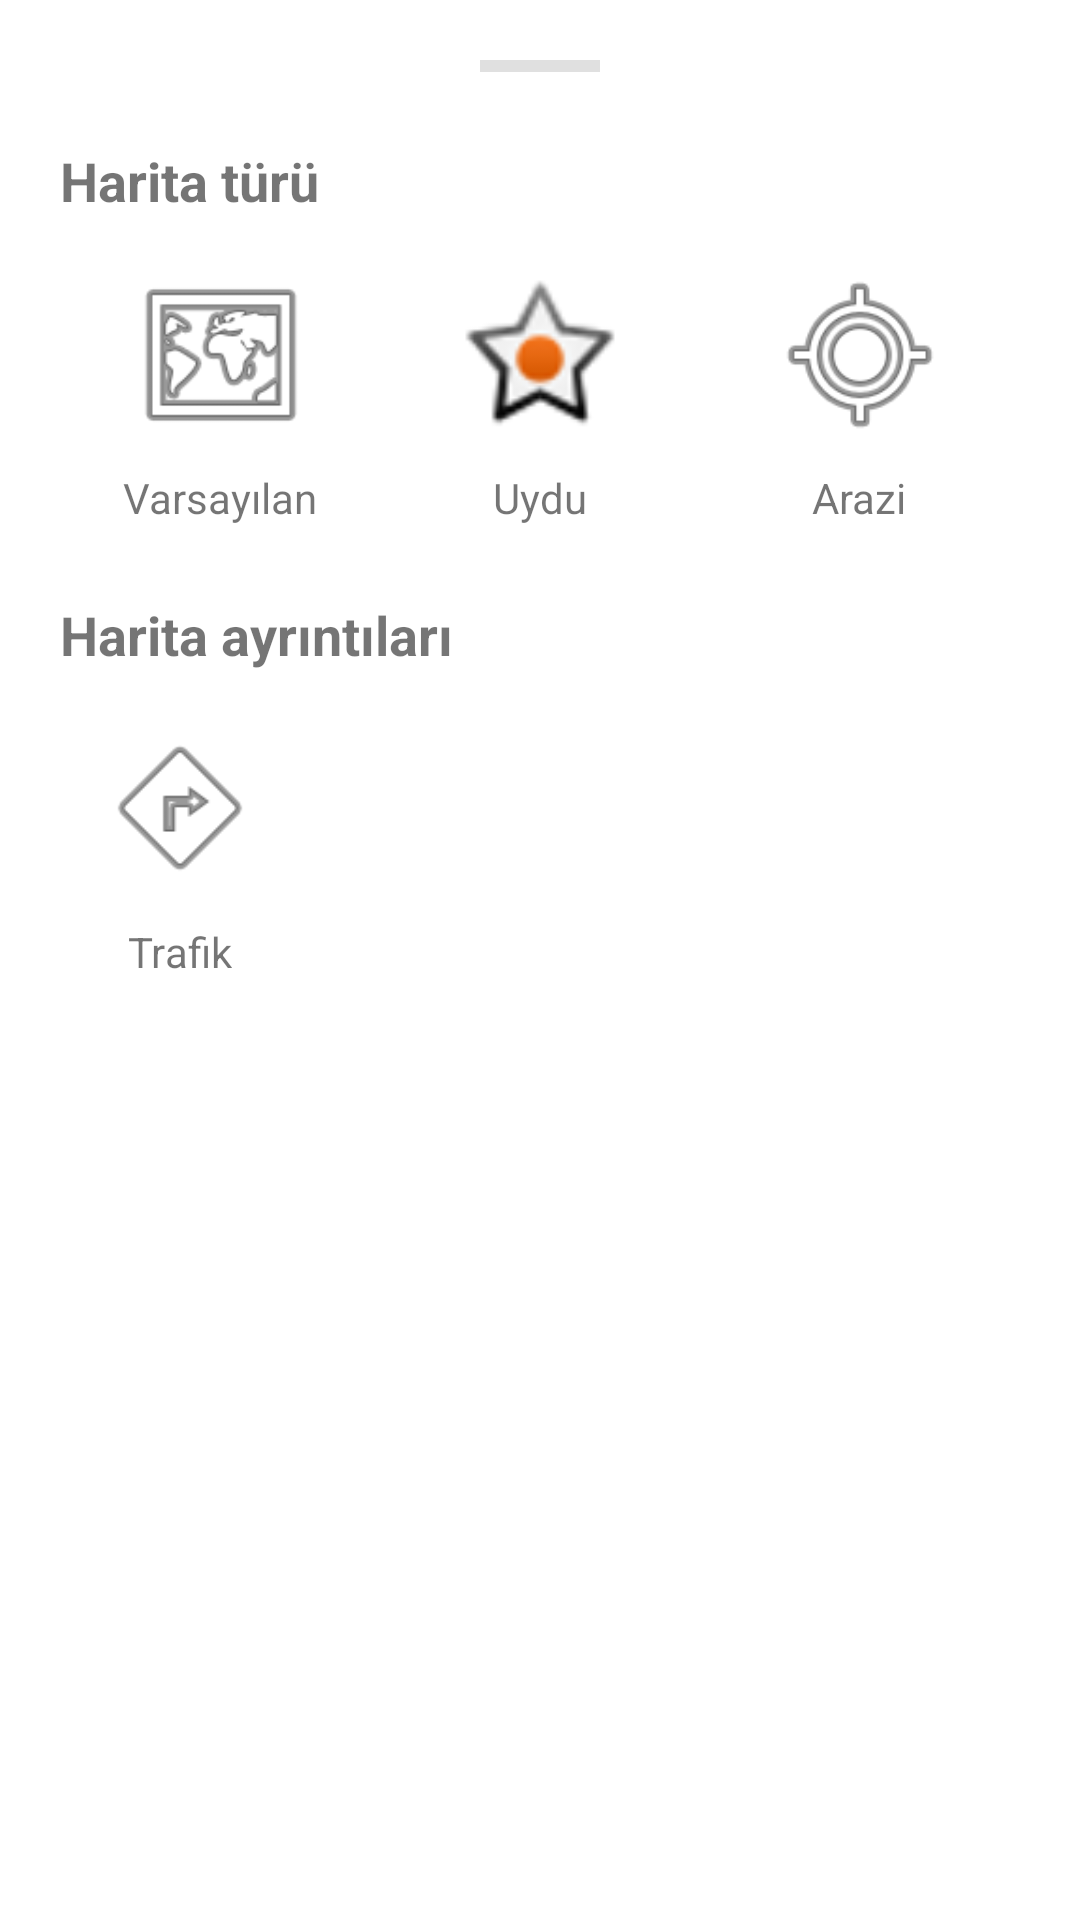

Icon bounding boxes for this 1080×1920 phone screenshot, format (x1, y1, x2, y2):
directions: (118, 746, 242, 870)
mapmode: (146, 289, 296, 421)
mylocation: (788, 283, 932, 427)
star on: (466, 282, 614, 424)
